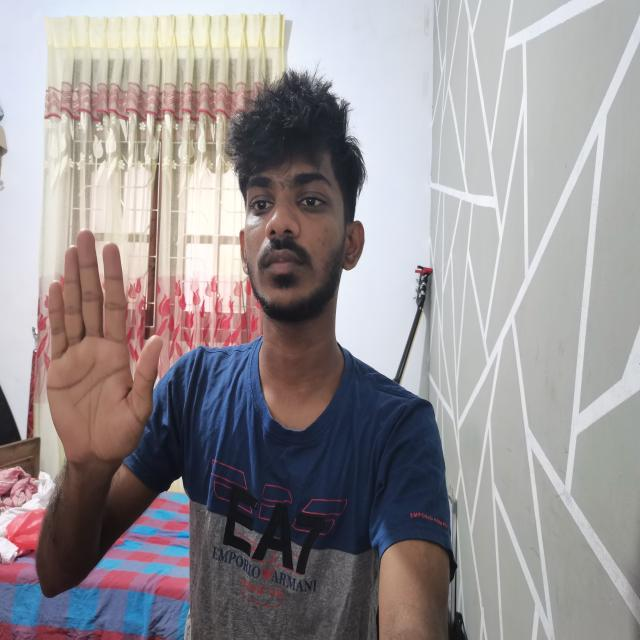Hello: (34, 219, 162, 471)
